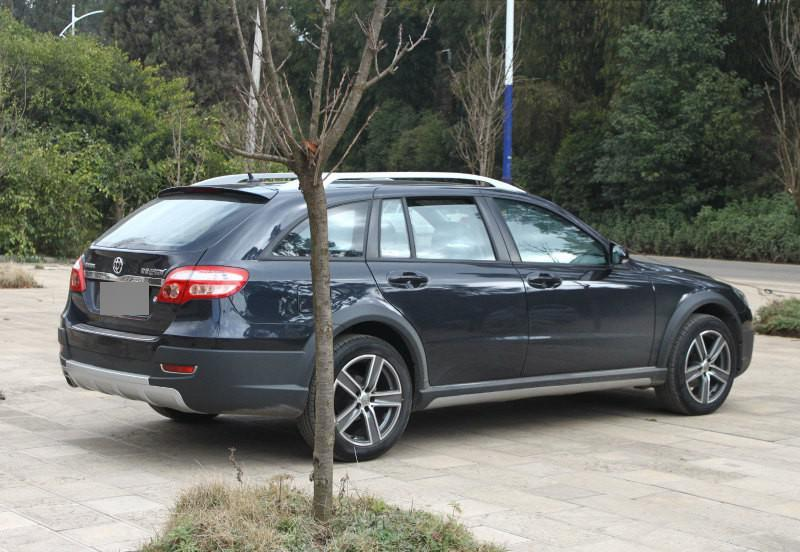Wagon: (56, 170, 754, 462)
